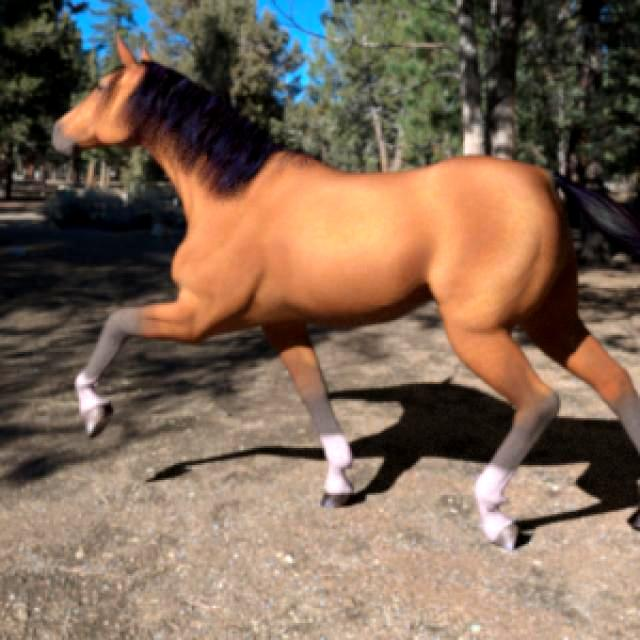horse: (52, 40, 640, 547), (556, 179, 640, 258)
